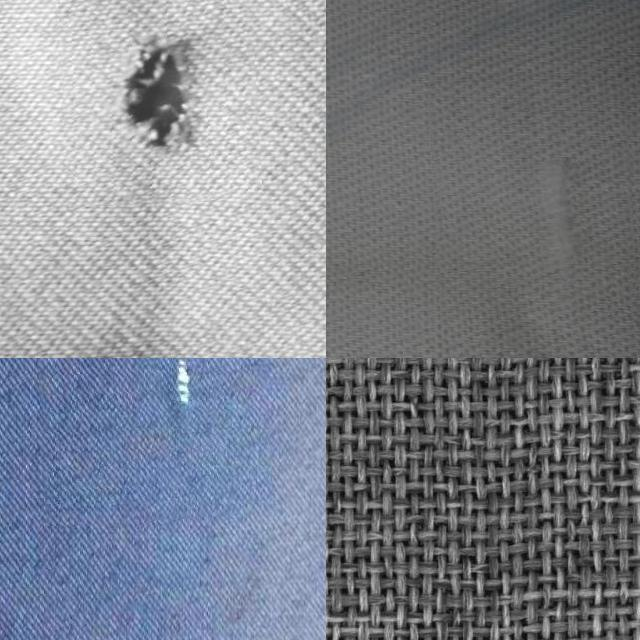Thread_other: (430, 72, 635, 358), (32, 358, 268, 523)
seam: (58, 0, 258, 205)
